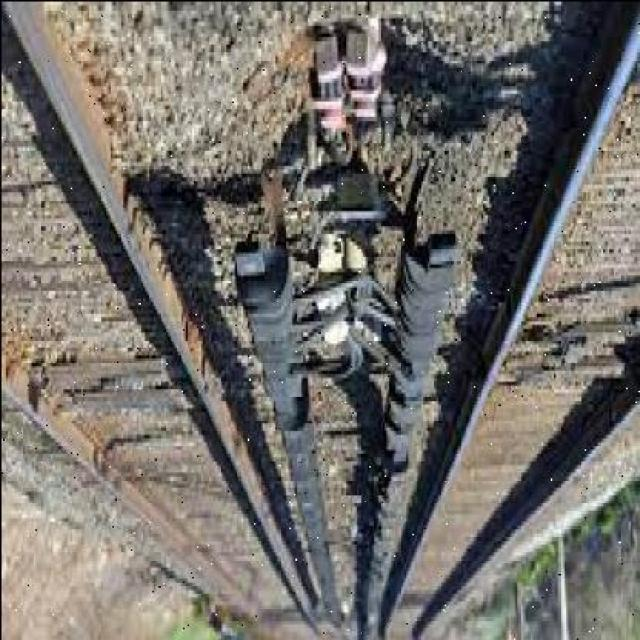rail: (0, 6, 640, 640)
